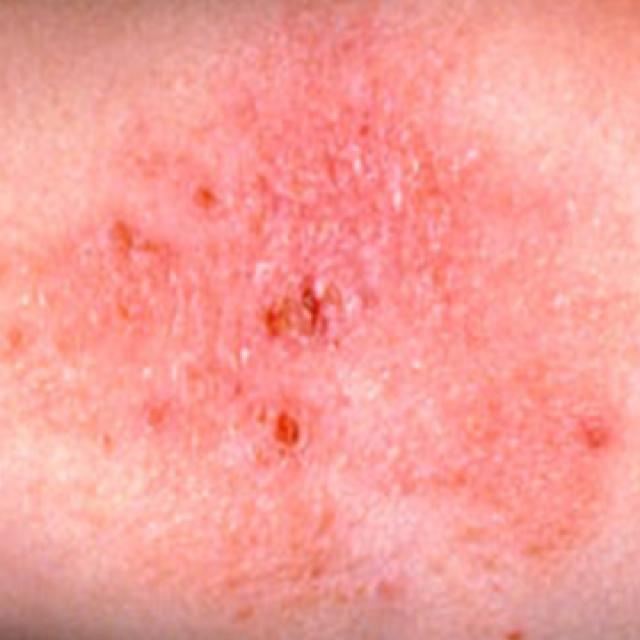AtopicDermatitis: (6, 3, 638, 616)
